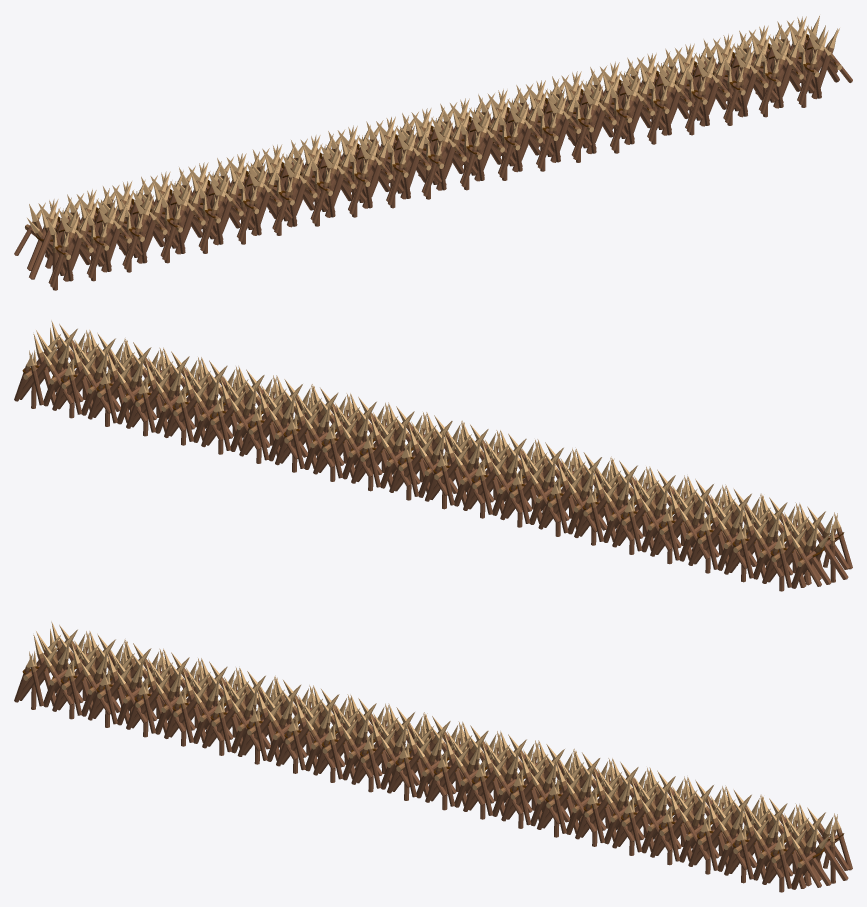
File: Spikes.fbx
The picture shows the model from 3 angles, top to bottom: view 1: azimuth 30°, elevation 25°; view 2: azimuth 150°, elevation 25°; view 3: azimuth 330°, elevation 25°; orthographic projection.
Parts seen in each view (by area): view 1: Plane.005; view 2: Plane.005; view 3: Plane.005.
Boxes of the visible parts, x1,y1,x2,y2 form: Plane.005: (14,15,852,290); Plane.005: (14,320,852,591); Plane.005: (14,621,852,892).
Size of the model in its own units: 424 by 35.76 by 38.77.
